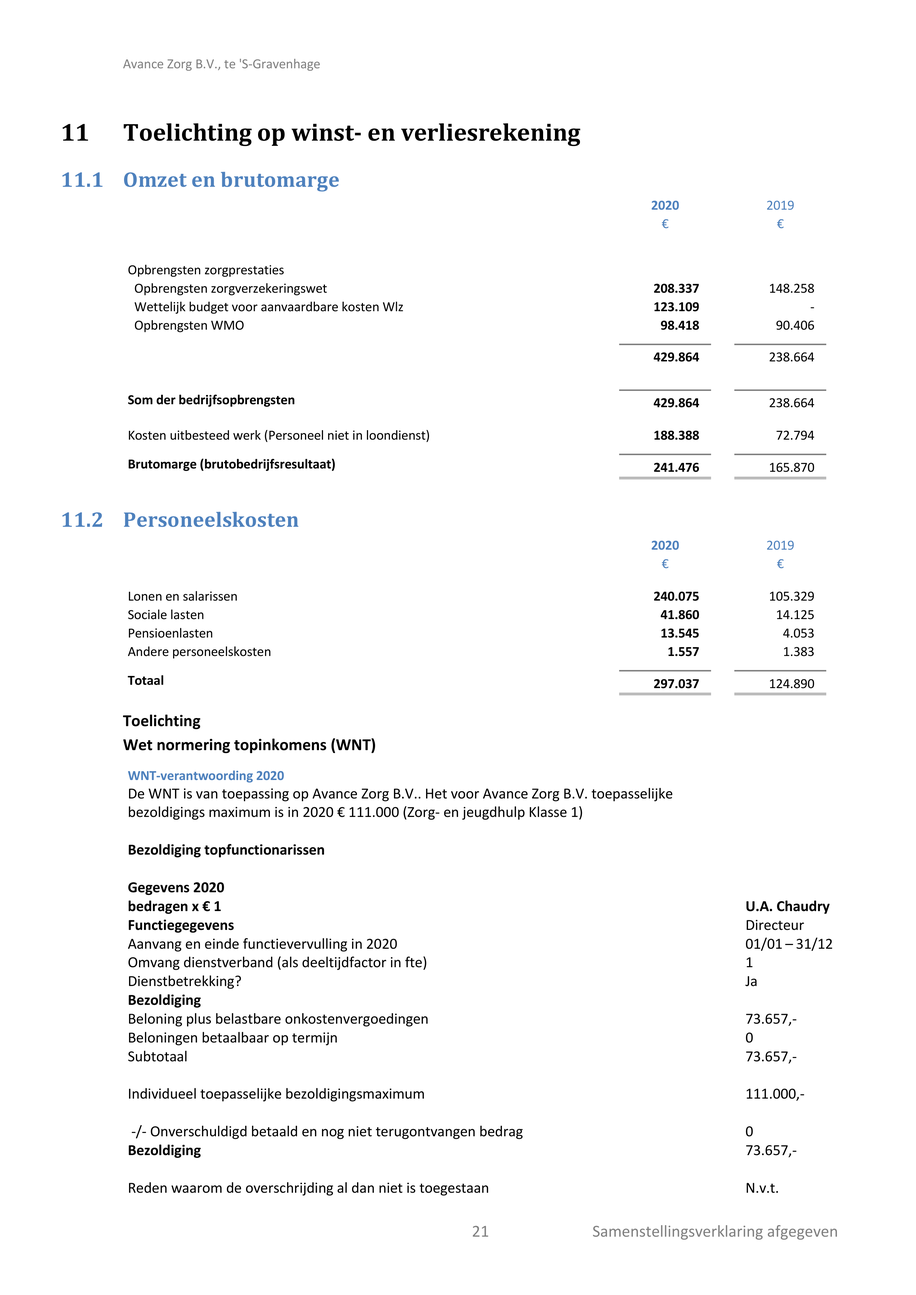coulmn: (125, 877, 524, 1202), (110, 193, 426, 478), (730, 178, 841, 485), (121, 528, 316, 701), (734, 895, 840, 1201), (620, 181, 728, 479), (734, 535, 848, 706), (621, 535, 722, 705)
